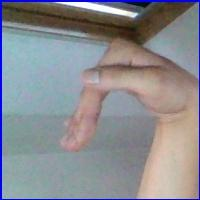del: (59, 29, 193, 170)
